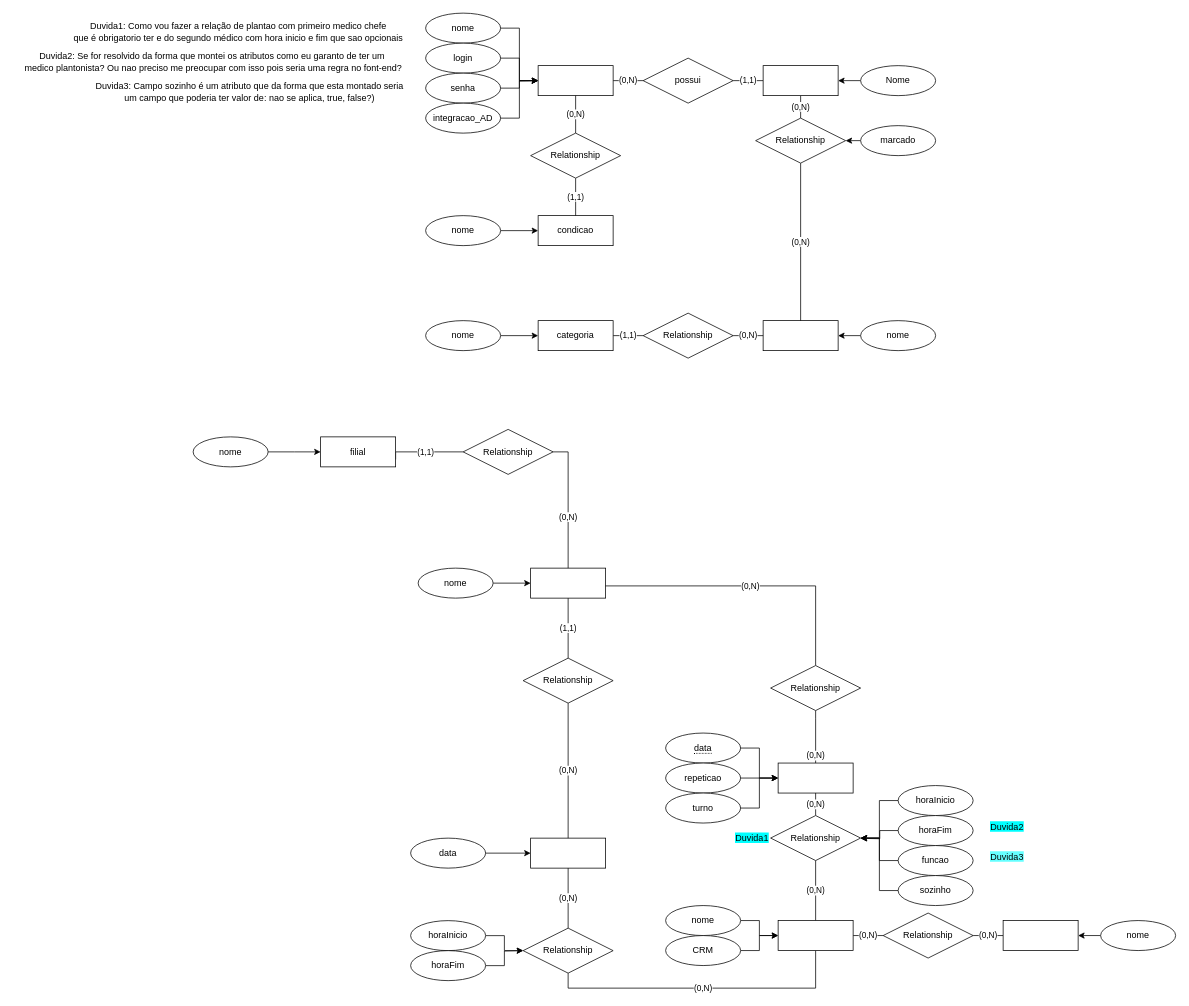
The diagram is 1189 pixels wide and 1006 high, and some of its shapes have lost their labels. Each missing label, with the centre of its shape:
especialidade: (1040,935)
local: (568,582)
medico: (815,935)
perfil: (800,80)
permissao: (800,335)
plantao: (815,777)
sobreaviso: (568,852)
usuario: (575,80)
